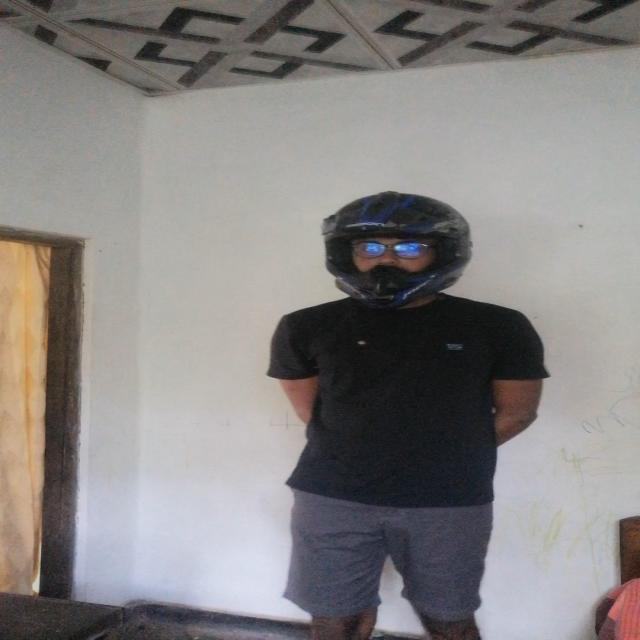Helmet_Wearer: (316, 181, 500, 323)
Person: (252, 188, 548, 636)
